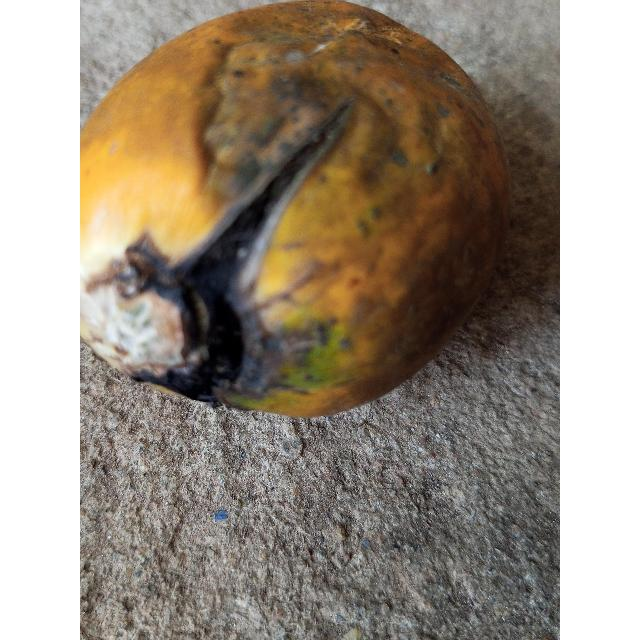damaged: (80, 1, 509, 416)
